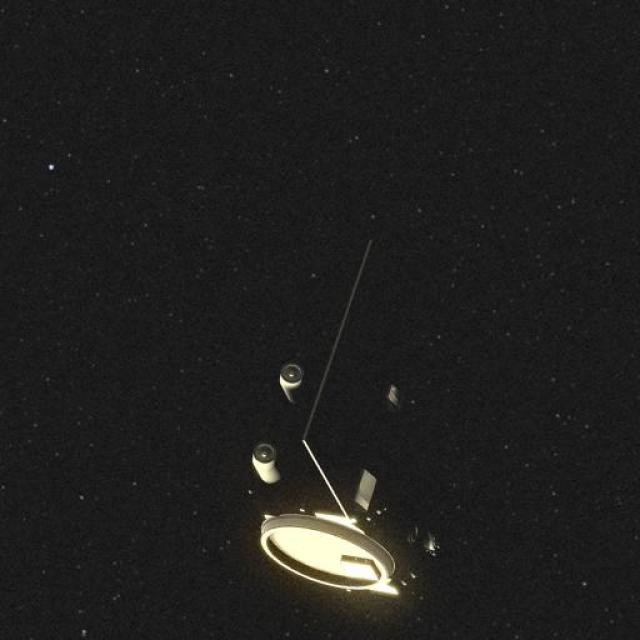proba_3_csc: (252, 197, 481, 640)
